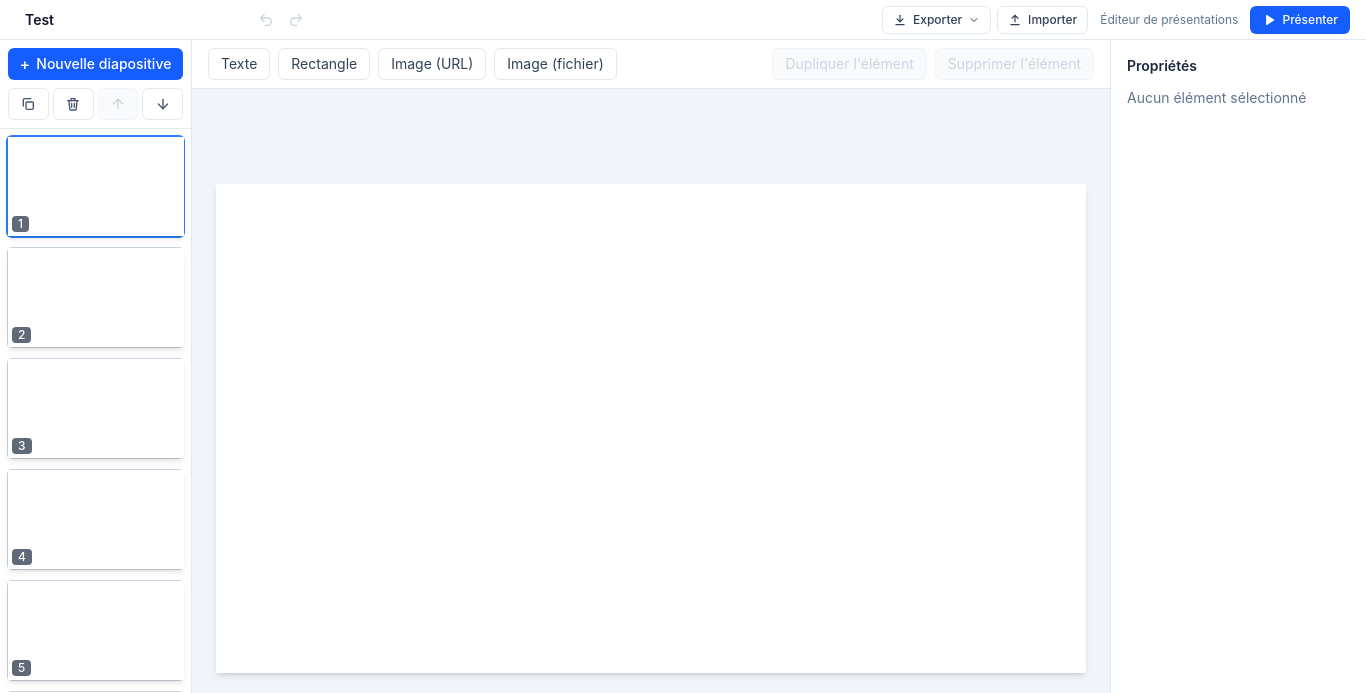
Test: EditorLayout : limite de diapositives › réactive les boutons dès qu'une diapositive est supprimée
Click the button "+ Nouvelle diapositive": (96, 64) [8,48,183,80]
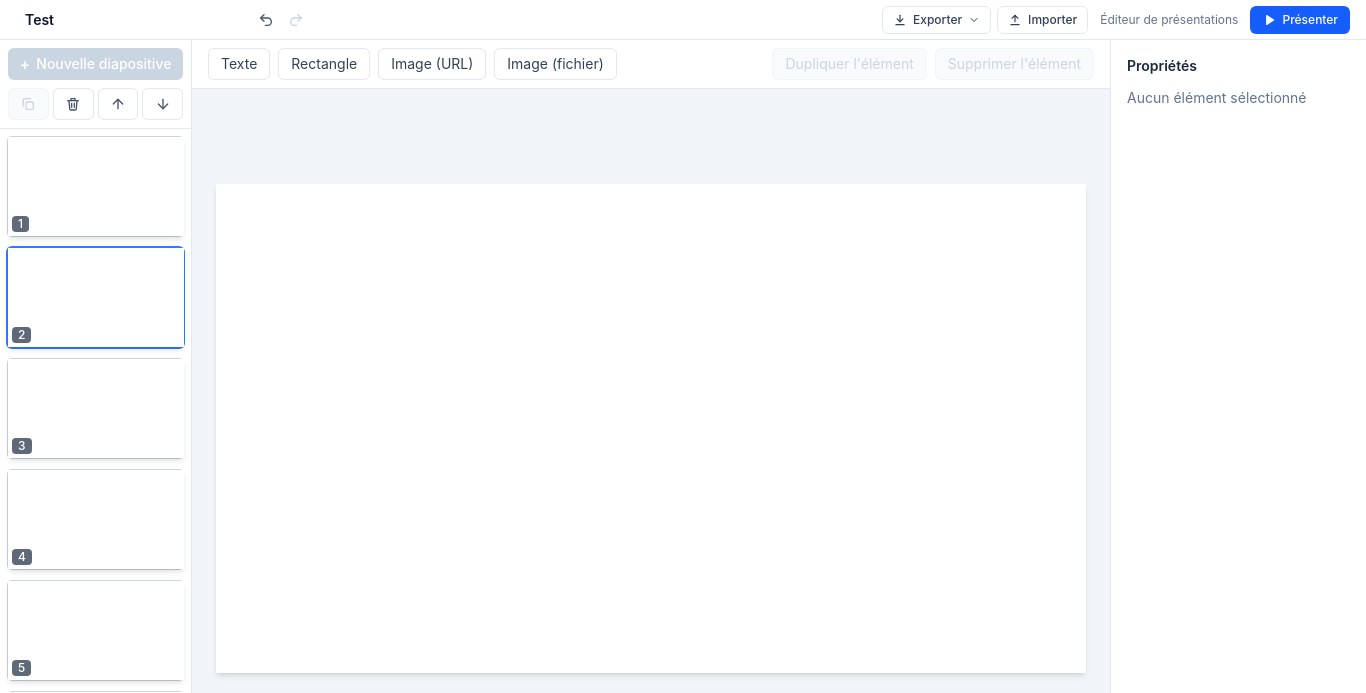
Expected: the button "+ Nouvelle diapositive" is disabled, [8,48,183,80]
Click the button named "Supprimer la diapositive": (73, 104) [53,88,94,120]
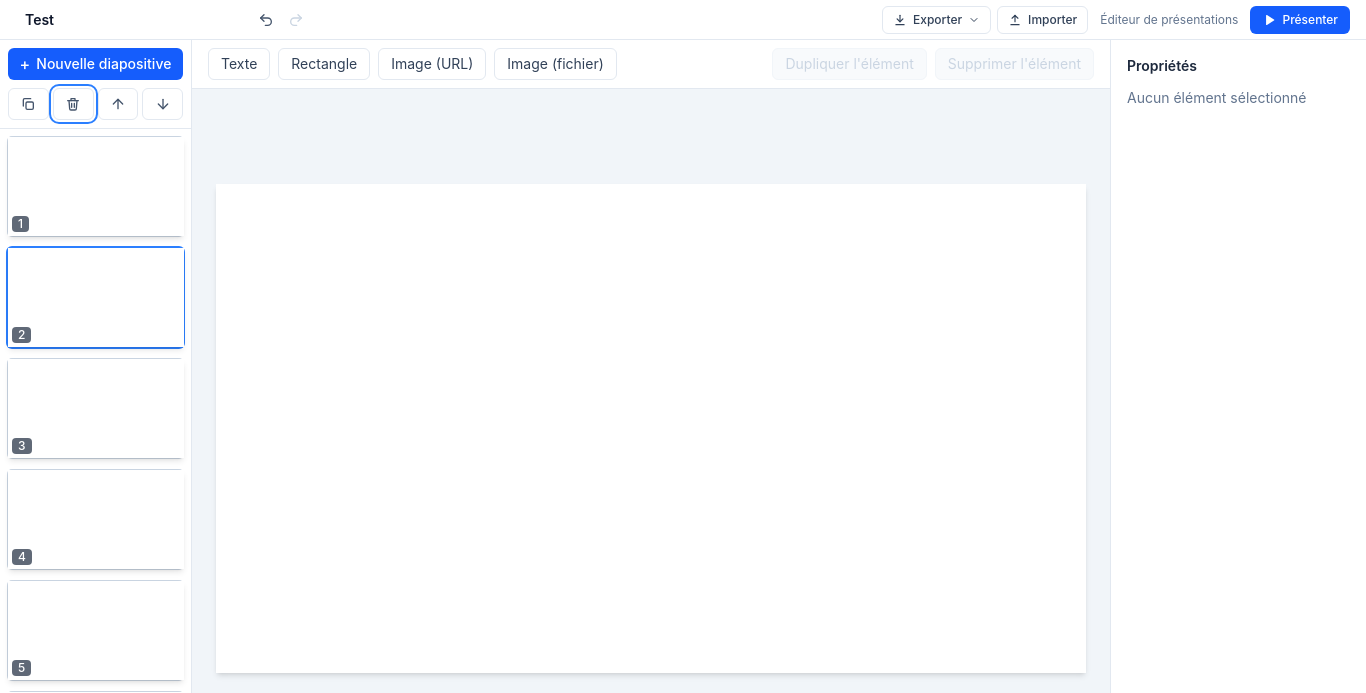
Expected: the button "+ Nouvelle diapositive" is enabled, [8,48,183,80]
Expected: the button named "Dupliquer la diapositive" is enabled, [8,88,49,120]
